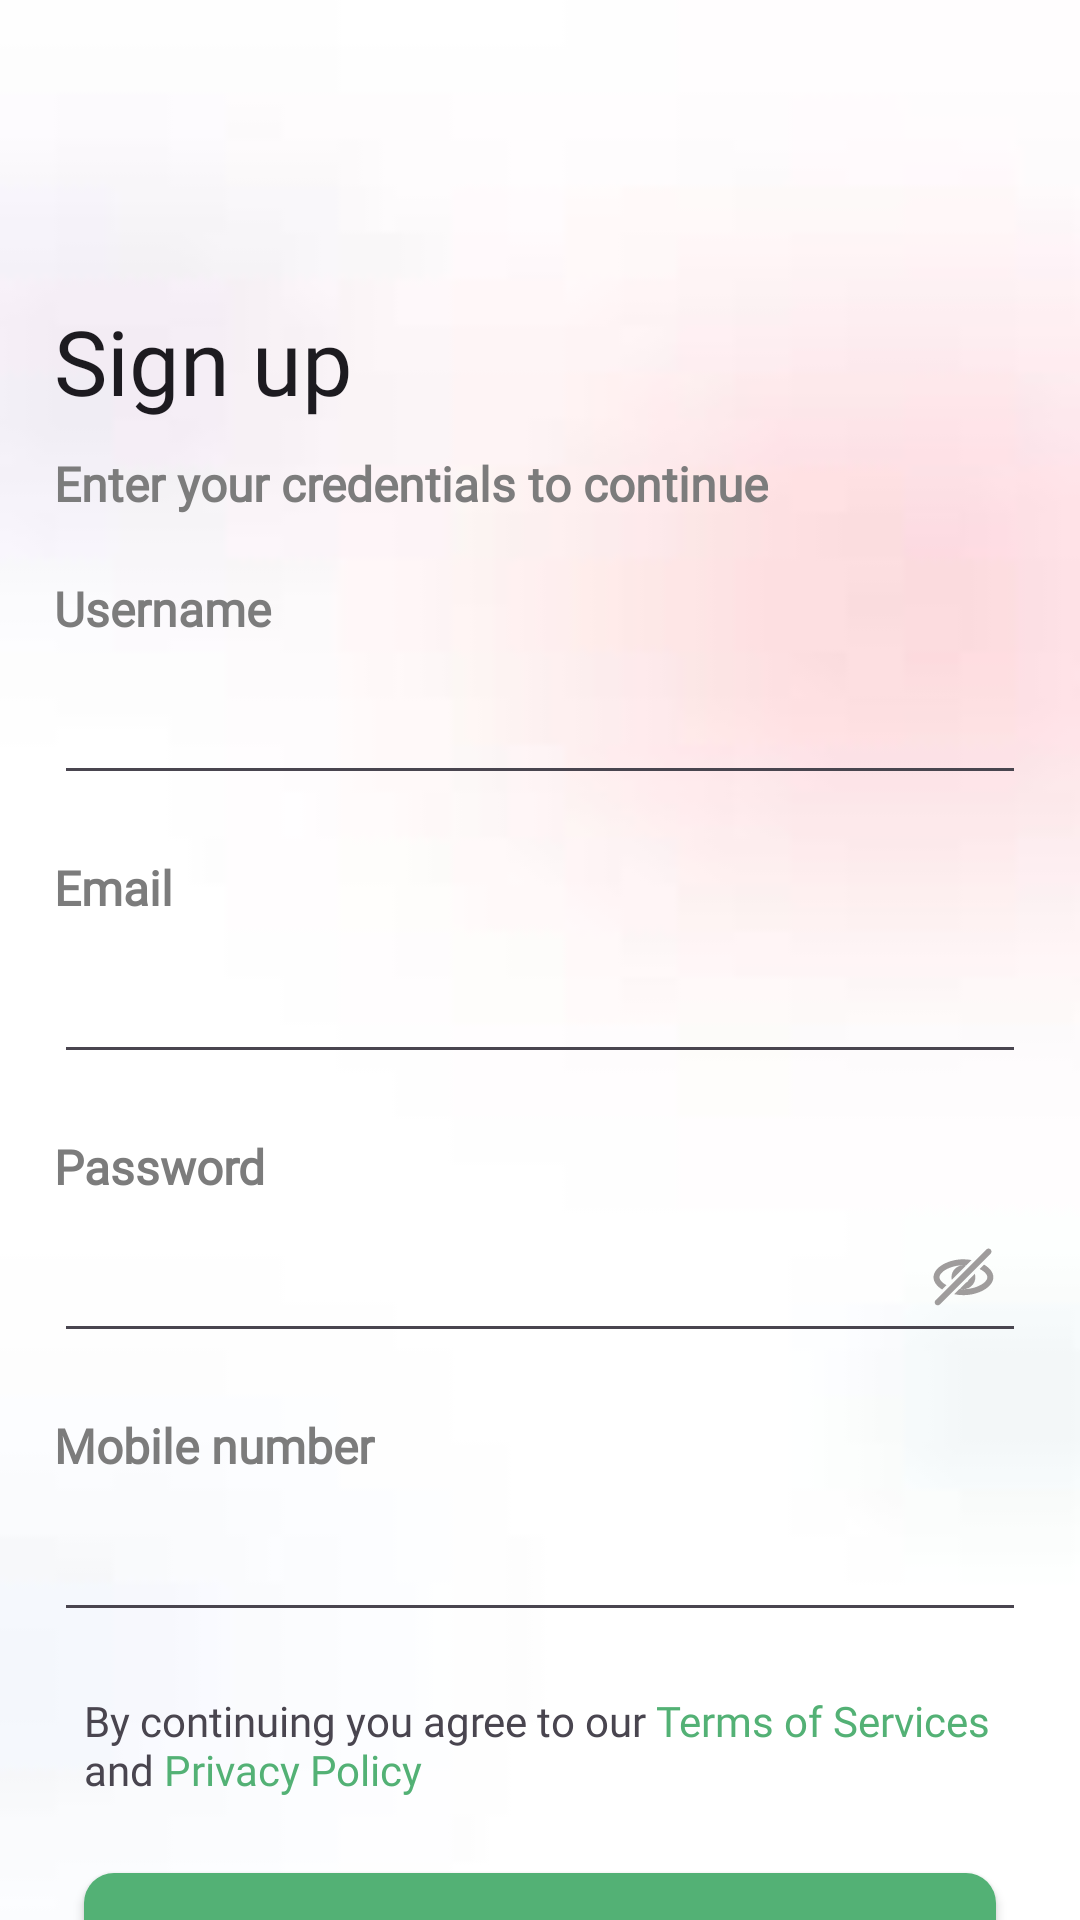

Icons on this 1080*1920 Android screen, each with the point to tap as [x,y]:
cut eye: [963,1277]
